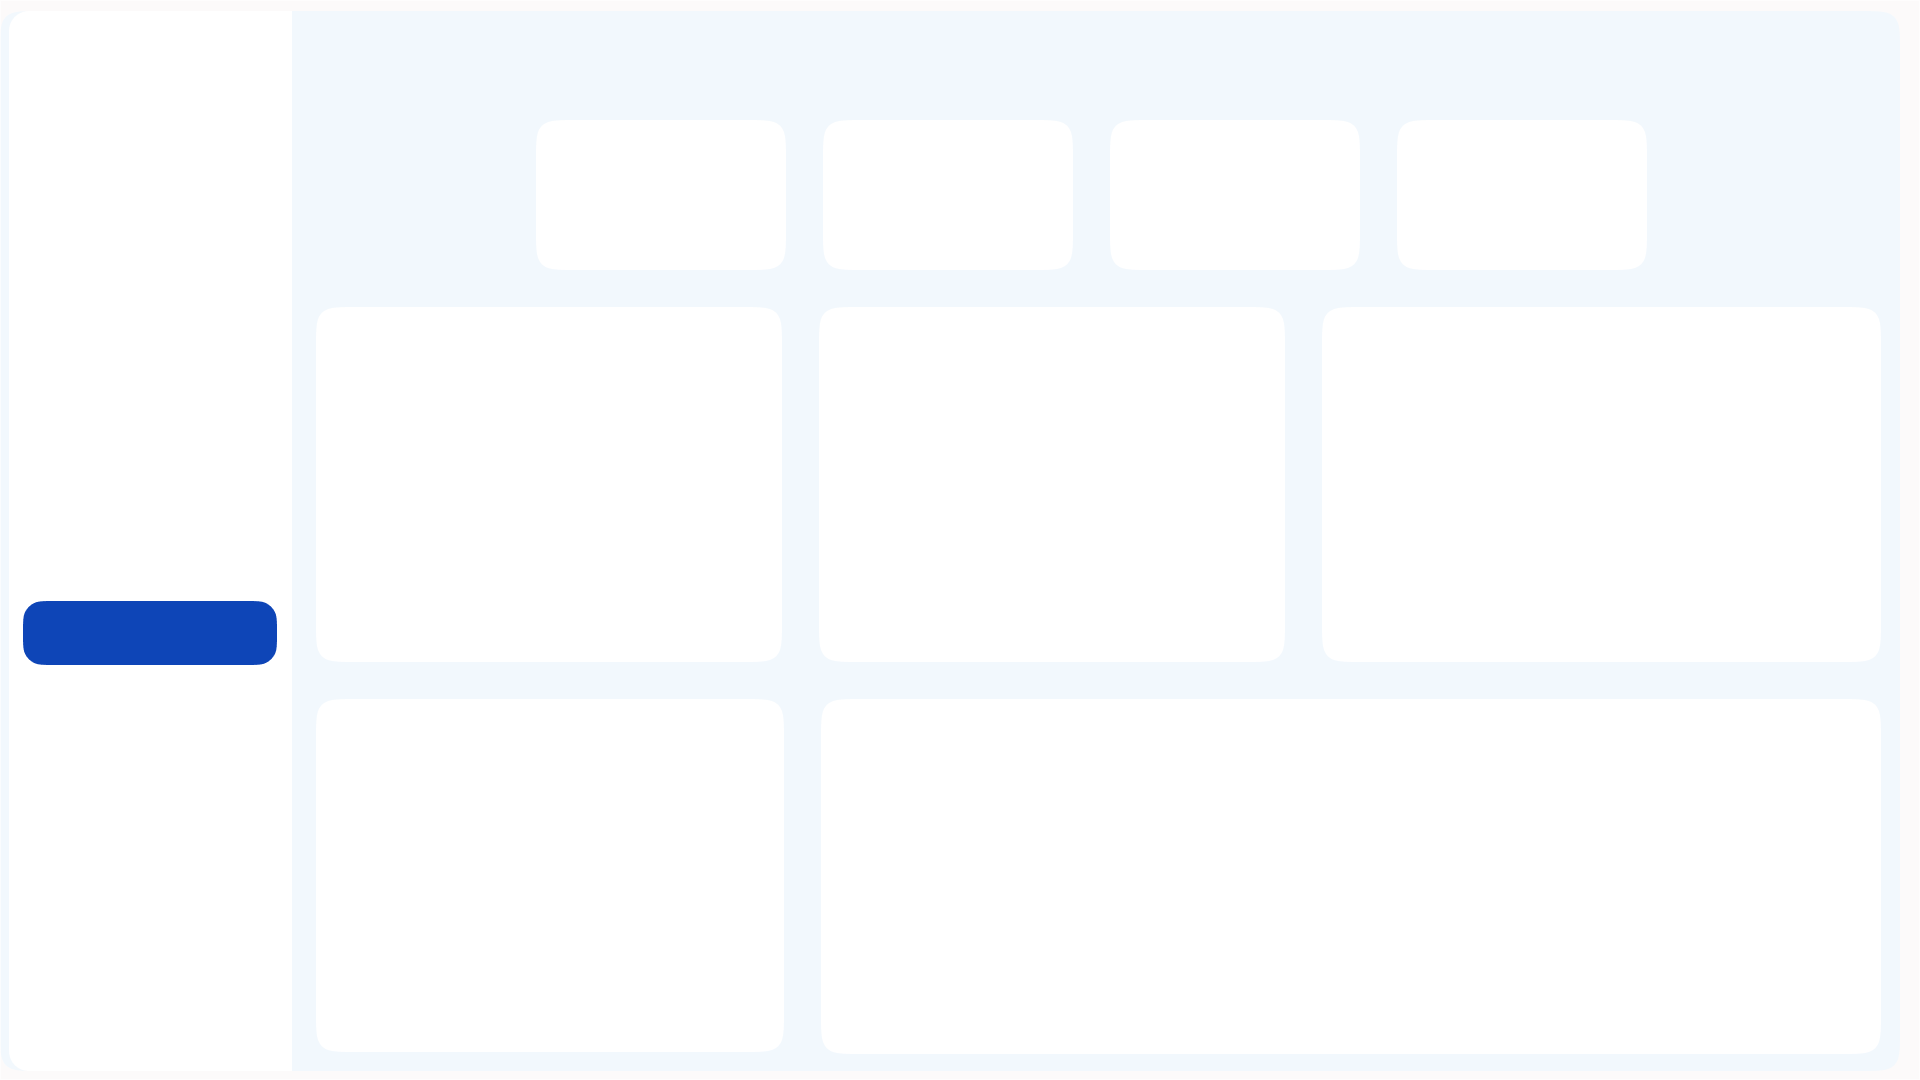

Layout of this report page (visuals, bound fields, positions):
{"tool":"powerbi","page":{"name":"Safety","canvas":[1920,1080],"ordinal":4},"visuals":[{"type":"cardVisual","fields":{"Data":["All Measures.Total AE"]},"box":[536.8,116.9,248.1,140.8],"z":0},{"type":"cardVisual","fields":{"Data":["All Measures.Serious AE"]},"box":[823.1,116.9,250.5,140.8],"z":1000},{"type":"cardVisual","fields":{"Data":["All Measures.AE Rate Per Patient"]},"box":[1111.8,116.9,250.5,140.8],"z":2000},{"type":"cardVisual","fields":{"Data":["All Measures.Serious AE %"]},"box":[1395.8,116.9,257.7,140.8],"z":3000},{"type":"slicer","fields":{"Values":["Study_Master.StudyID"]},"box":[39.6,774.4,220.2,69.3],"z":4000},{"type":"slicer","fields":{"Values":["Patient_Details.Country"]},"box":[39.6,863.5,220.2,69.3],"z":5000},{"type":"clusteredColumnChart","fields":{"Category":["Adverse_Events.Severity"],"Y":["All Measures.Total AE"]},"box":[319.7,312.6,465.3,350.7],"z":6000},{"type":"donutChart","fields":{"Category":["Adverse_Events.Outcome"],"Y":["All Measures.Total AE"]},"box":[825.5,312.6,455.7,350.7],"z":7000},{"type":"clusteredBarChart","fields":{"Y":["All Measures.Total AE"],"Category":["Site_Master.SiteName"]},"box":[1326.6,312.6,548.8,350.7],"z":8000},{"type":"donutChart","fields":{"Y":["All Measures.Serious AE","All Measures.Non-Serious AE"]},"box":[319.7,699.1,465.3,341.2],"z":9000},{"type":"lineClusteredColumnComboChart","fields":{"Category":["Site_Master.SiteName"],"Y":["All Measures.Total AE"],"Y2":["All Measures.Serious AE %"]},"box":[825.5,699.1,1049.8,341.2],"z":10000},{"type":"textbox","box":[28.6,596.5,245.7,76.3],"z":16000},{"type":"image","box":[1823.5,29.7,59.4,52],"z":17000},{"type":"textbox","box":[314.2,12.4,692.8,99],"z":19000},{"type":"textbox","box":[942.7,24.7,339,61.9],"z":20000},{"type":"image","box":[1744.3,29.7,59.4,52],"z":21000},{"type":"slicer","fields":{"Values":["Site_Master.SiteID"]},"box":[39.6,685.4,220.2,69.3],"z":22000},{"type":"image","box":[0,0,298.2,169.4],"z":23000}]}

Visuals, with their boxes on the page's 1920x1080 design canvas (x1, y1, x2, y2). These are canvas units, not pixel positions in the 1920x1080 screenshot, which may show the page scaled, cropped or inside an application window:
cardVisual - All Measures.Total AE: [x1=537, y1=117, x2=785, y2=258]
cardVisual - All Measures.Serious AE: [x1=823, y1=117, x2=1074, y2=258]
cardVisual - All Measures.AE Rate Per Patient: [x1=1112, y1=117, x2=1362, y2=258]
cardVisual - All Measures.Serious AE %: [x1=1396, y1=117, x2=1654, y2=258]
slicer - Study_Master.StudyID: [x1=40, y1=774, x2=260, y2=844]
slicer - Patient_Details.Country: [x1=40, y1=864, x2=260, y2=933]
clusteredColumnChart - Adverse_Events.Severity x All Measures.Total AE: [x1=320, y1=313, x2=785, y2=663]
donutChart - Adverse_Events.Outcome x All Measures.Total AE: [x1=826, y1=313, x2=1281, y2=663]
clusteredBarChart - All Measures.Total AE x Site_Master.SiteName: [x1=1327, y1=313, x2=1875, y2=663]
donutChart - All Measures.Serious AE x All Measures.Non-Serious AE: [x1=320, y1=699, x2=785, y2=1040]
lineClusteredColumnComboChart - Site_Master.SiteName x All Measures.Total AE: [x1=826, y1=699, x2=1875, y2=1040]
textbox: [x1=29, y1=596, x2=274, y2=673]
image: [x1=1824, y1=30, x2=1883, y2=82]
textbox: [x1=314, y1=12, x2=1007, y2=111]
textbox: [x1=943, y1=25, x2=1282, y2=87]
image: [x1=1744, y1=30, x2=1804, y2=82]
slicer - Site_Master.SiteID: [x1=40, y1=685, x2=260, y2=755]
image: [x1=0, y1=0, x2=298, y2=169]
